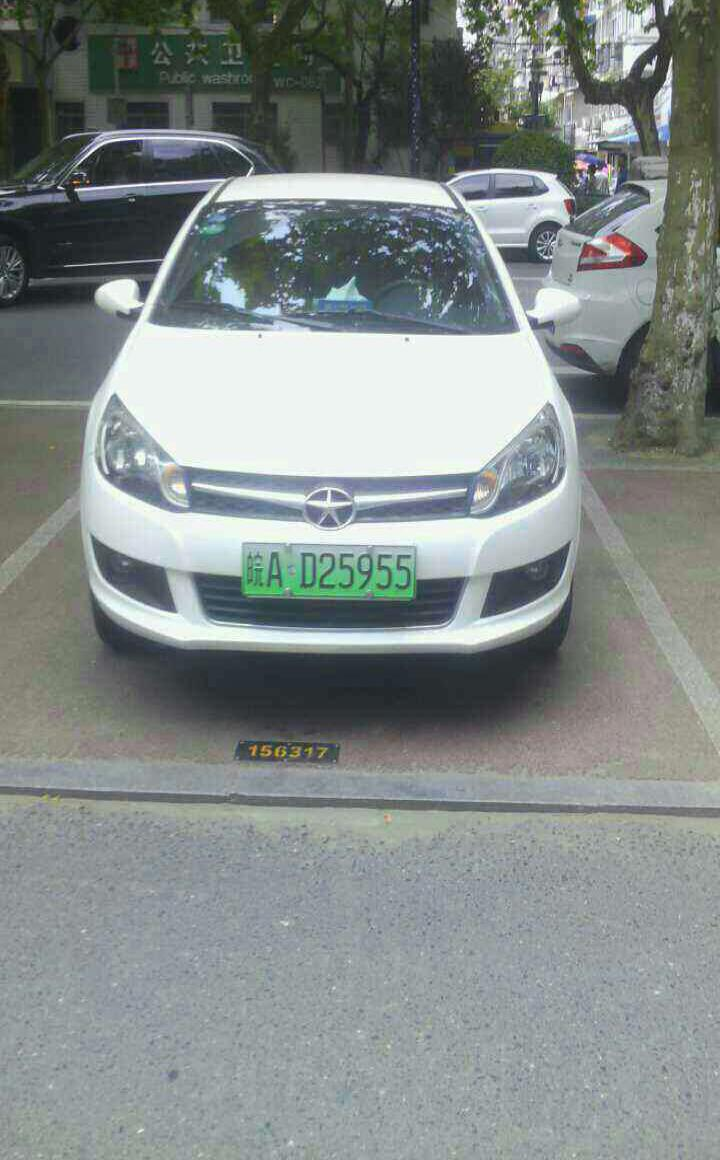car_id: (240, 543, 414, 599)
